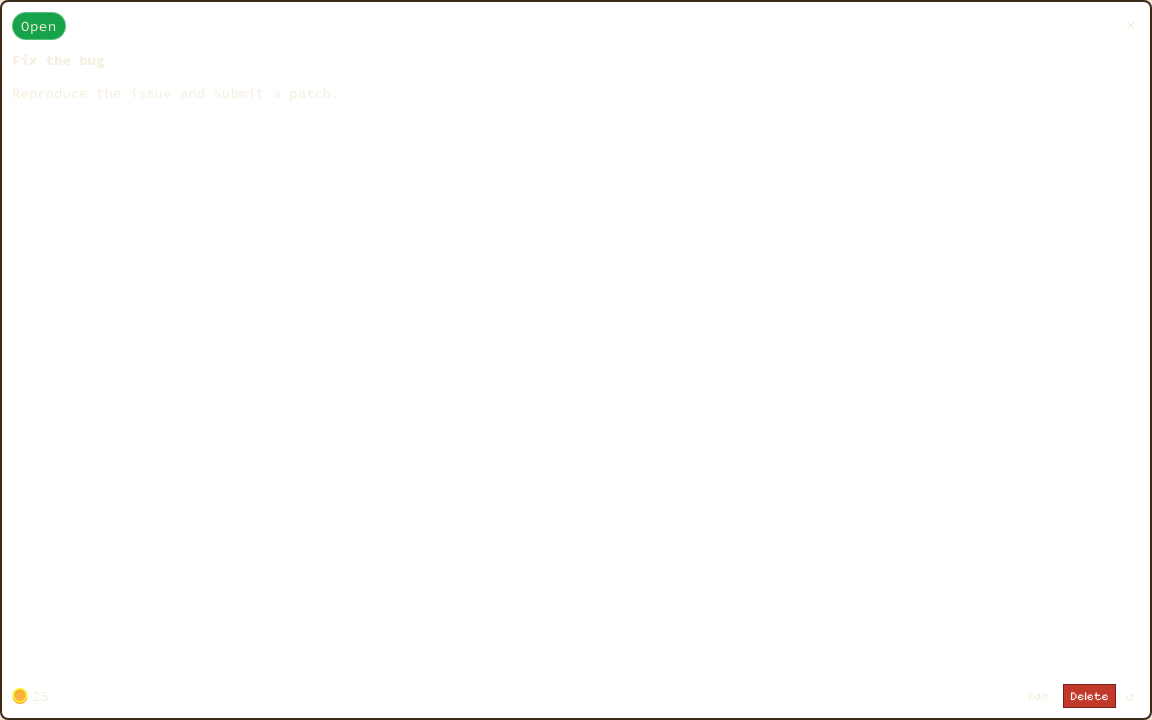
Test: TaskCardFront › shows delete confirm dialog when Delete is clicked in creator view
What coordinates should you click on to do the following:
click the button "Delete"
I would click on:
 (1089, 696)
Its box is [1063,684,1116,708].
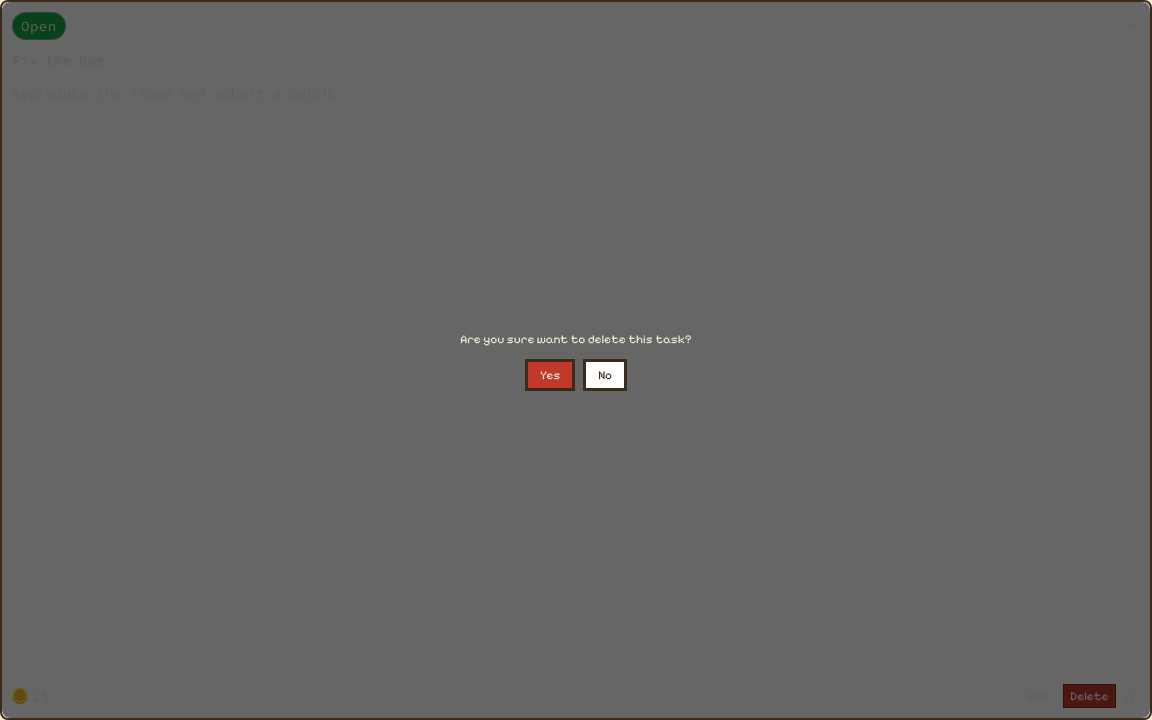
Expected: the text "Are you sure want to delete this task?" is shown, [460,329,692,351]
